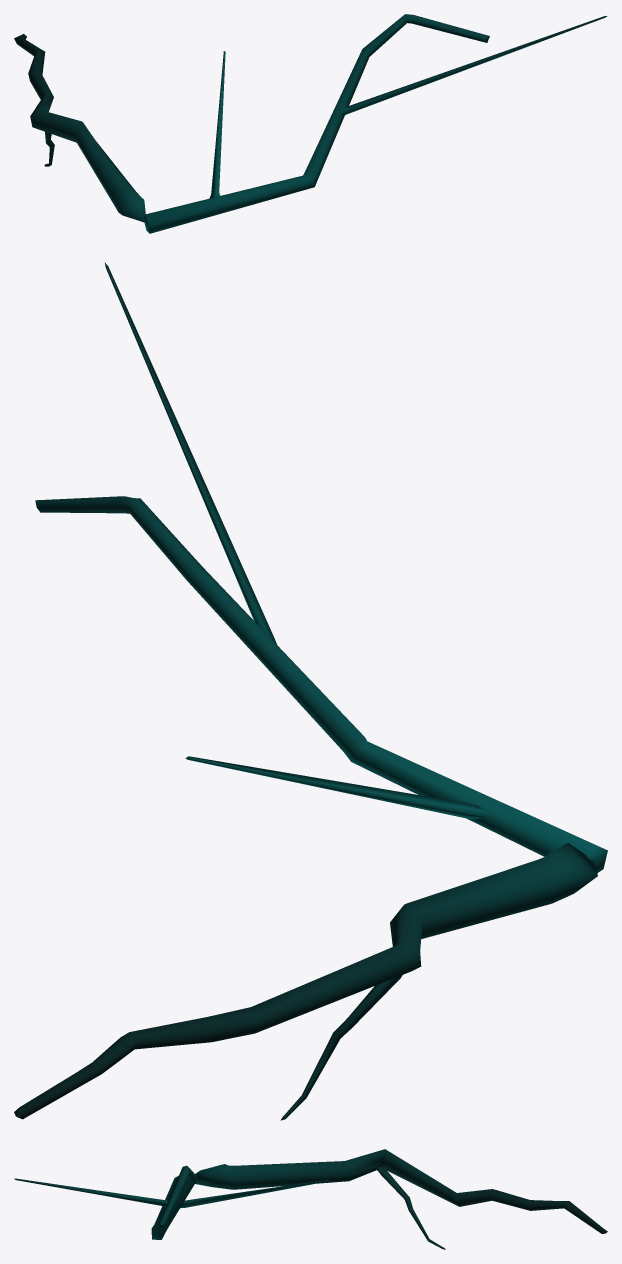
The model's file is Branchs 1.fbx.
3 views of the same model, one above another, from view 1: azimuth 30°, elevation 25°; view 2: azimuth 150°, elevation 25°; view 3: azimuth 270°, elevation 25° (orthographic). The views are drawn at different scales.
Parts seen in each view (by area): view 1: TallTree01_LOD0.001, TallTree01_LOD0.002; view 2: TallTree01_LOD0.001, TallTree01_LOD0.002; view 3: TallTree01_LOD0.002, TallTree01_LOD0.001.
Part boxes in pixels (left/top/right/bottom): TallTree01_LOD0.001: left=144, top=14, right=607, bottom=233; TallTree01_LOD0.002: left=14, top=34, right=146, bottom=222; TallTree01_LOD0.001: left=35, top=262, right=607, bottom=872; TallTree01_LOD0.002: left=14, top=843, right=597, bottom=1120; TallTree01_LOD0.002: left=195, top=1149, right=607, bottom=1249; TallTree01_LOD0.001: left=14, top=1165, right=328, bottom=1239.
Size of the model in its own units: 196 by 116 by 281.
